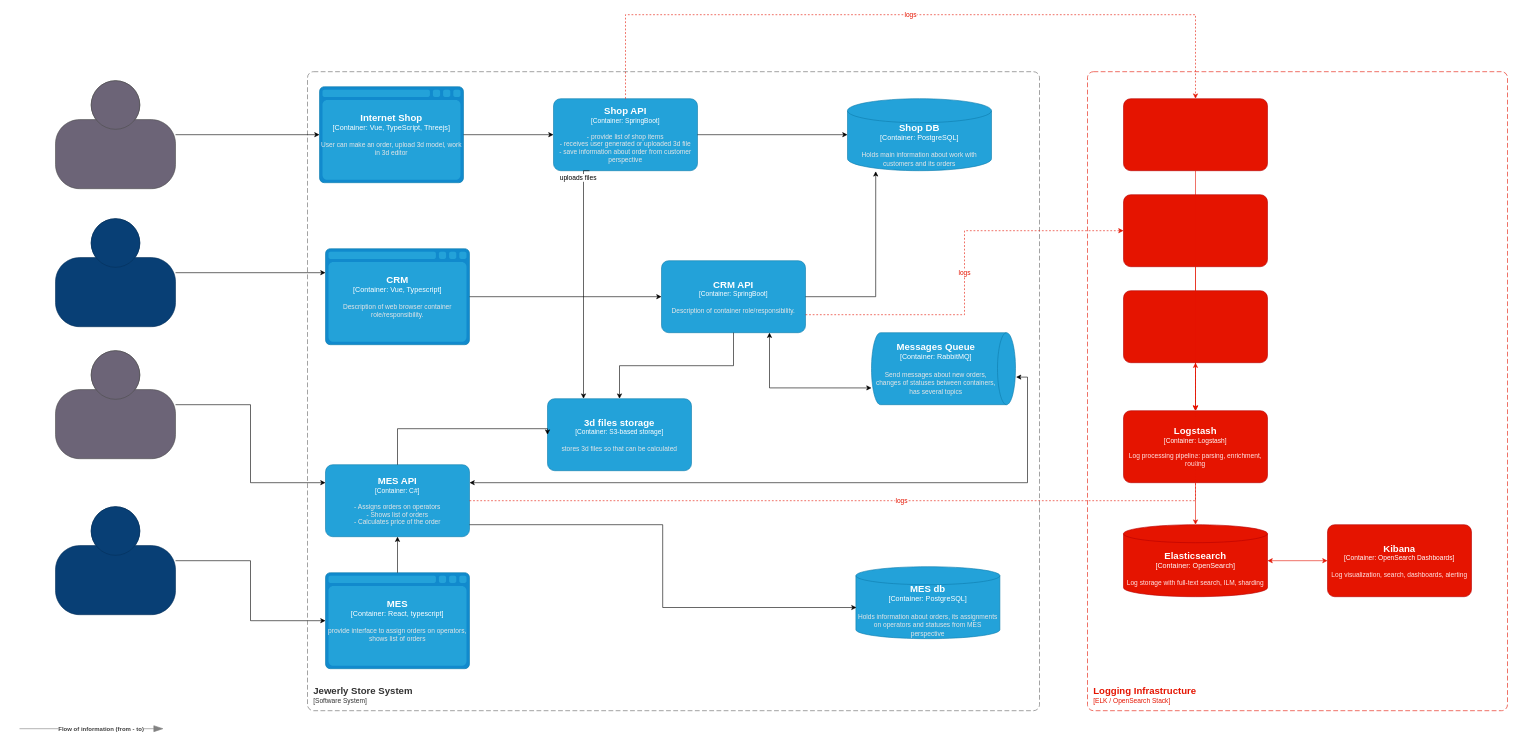
This 1518x749 diagram has some shape labels left out. Here are the shapes that lost their labels. From the top down, the centre of each, then its label:
At point 115,134: "Customer [Person] Description of external person.".
At point 1195,134: "Filebeat [Agent: Filebeat] Collects logs from Shop API".
At point 1195,230: "Filebeat [Agent: Filebeat] Collects logs from CRM API".
At point 115,272: "Seller [Person] Operates with order, confirms manufacturing for the user".
At point 1195,326: "Filebeat [Agent: Filebeat] Collects logs from MES API and RabbitMQ".
At point 115,404: "API user [Person] Description of external person.".
At point 115,560: "Operator [Person] Takes order in work, manufactures jewerly".
